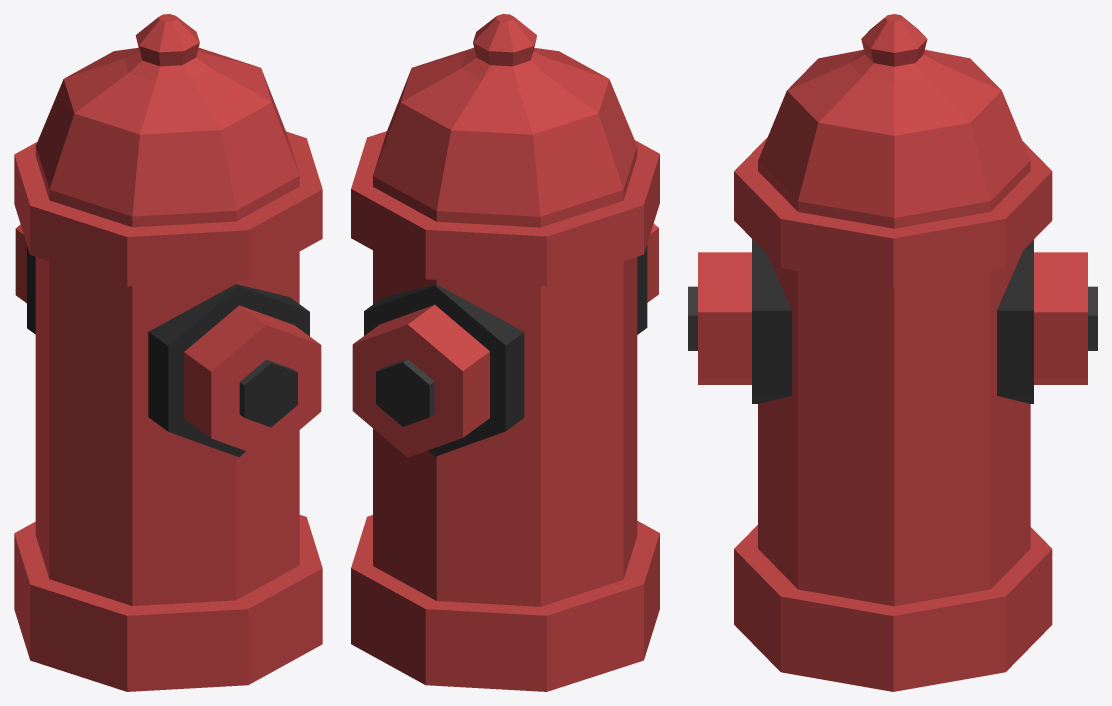
File: HydrantObject.fbx
The picture shows the model from 3 angles, left to right: view 1: azimuth 30°, elevation 25°; view 2: azimuth 150°, elevation 25°; view 3: azimuth 270°, elevation 25°; orthographic projection.
Parts seen in each view (by area): view 1: Cylinder, Cylinder.004, Cylinder.001, Cylinder.003, Cylinder.002; view 2: Cylinder, Cylinder.004, Cylinder.002, Cylinder.003, Cylinder.001; view 3: Cylinder, Cylinder.004, Cylinder.003, Cylinder.001, Cylinder.002.
Part boxes in pixels (x1,y1,x2,y2): Cylinder: (35, 14, 299, 605); Cylinder.004: (14, 515, 322, 691); Cylinder.001: (148, 284, 321, 457); Cylinder.003: (14, 131, 322, 286); Cylinder.002: (15, 224, 35, 334); Cylinder: (373, 14, 637, 606); Cylinder.004: (351, 515, 659, 691); Cylinder.002: (352, 284, 524, 457); Cylinder.003: (351, 131, 659, 285); Cylinder.001: (637, 224, 658, 334); Cylinder: (758, 14, 1030, 606); Cylinder.004: (734, 525, 1052, 691); Cylinder.003: (734, 137, 1052, 287); Cylinder.001: (688, 239, 791, 403); Cylinder.002: (997, 240, 1097, 403).
Bounding box in the file's own units: 234 × 491 × 301.
